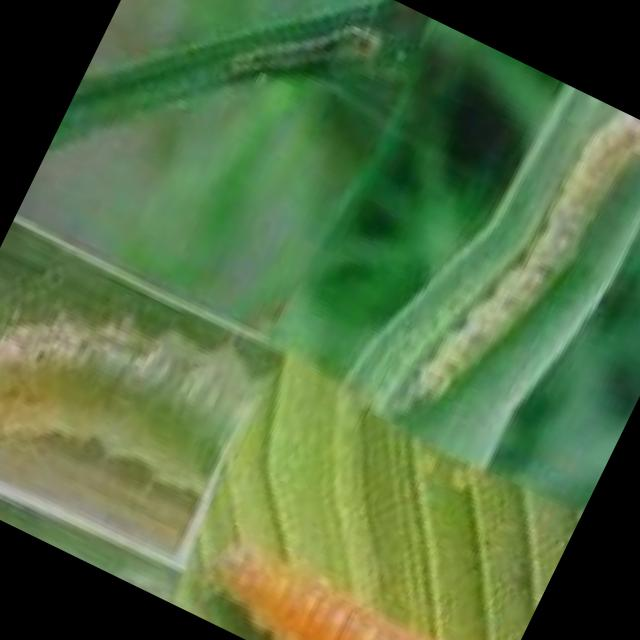leaf-folder: (411, 84, 640, 457), (0, 243, 268, 542), (182, 501, 520, 640), (218, 0, 396, 141)
